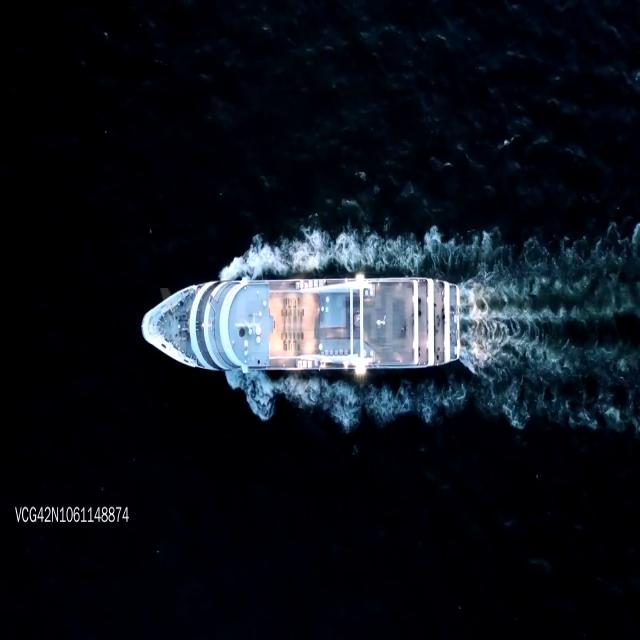passenger ship: (132, 273, 465, 378)
